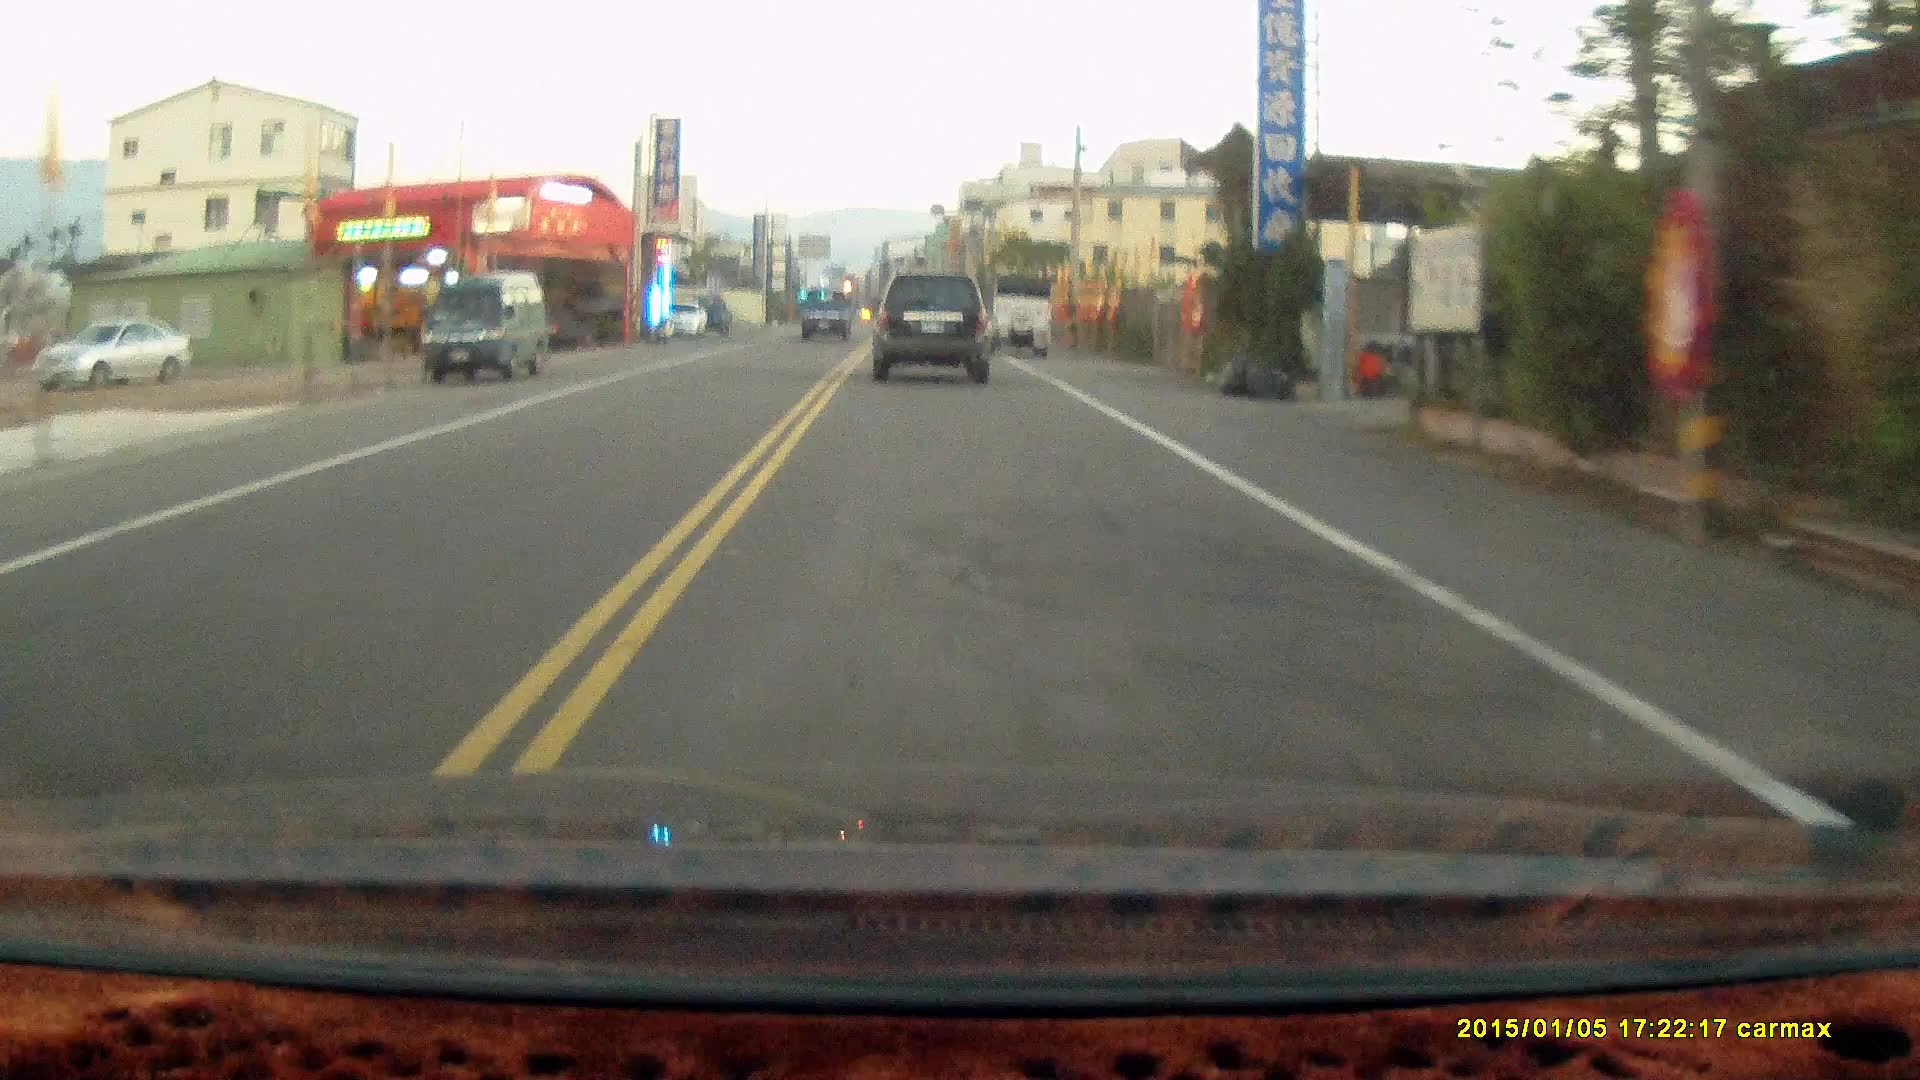vehicle: (869, 266, 1000, 388), (415, 270, 543, 390), (22, 313, 199, 389), (975, 270, 1056, 353), (800, 284, 853, 338)
